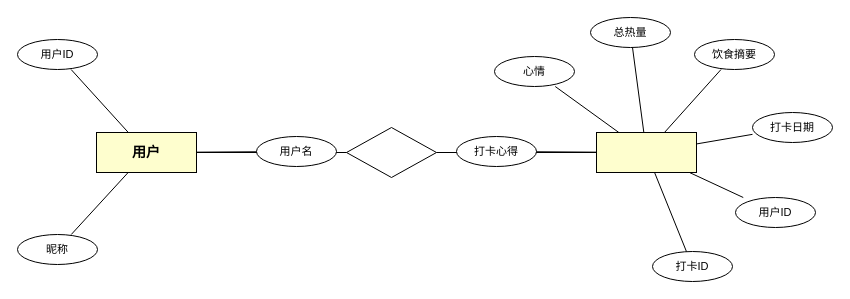
The diagram is 850 pixels wide and 299 high, and some of its shapes have lost their labels. The shapes that lost their labels are listed below. From the top down, each one's centre as x and y in pixels, then its label:
At (391,152): "记录".
At (646,152): "饮食打卡".
